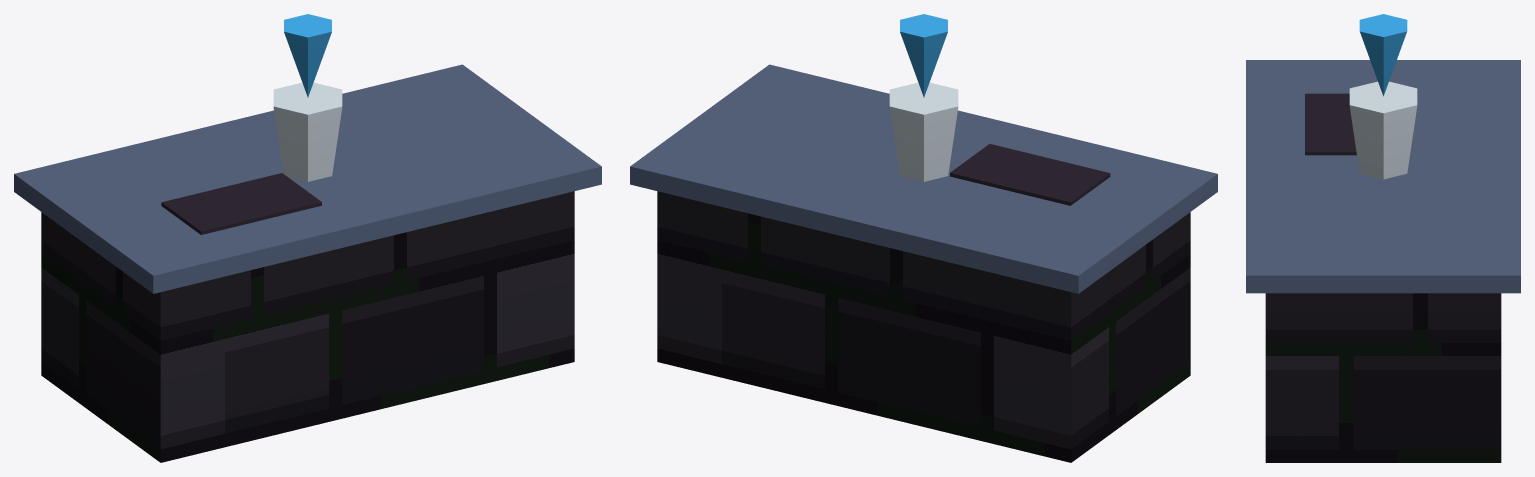
File: ledger_lectern.glb
3 renders of one model, left to right at view 1: azimuth 30°, elevation 25°; view 2: azimuth 150°, elevation 25°; view 3: azimuth 270°, elevation 25°, orthographic.
Visible parts, largest first — view 1: ledger_lectern; view 2: ledger_lectern; view 3: ledger_lectern.
Boxes of the visible parts, box(x1,y1,x2,y2) form: ledger_lectern: box(14, 14, 601, 462); ledger_lectern: box(630, 14, 1217, 462); ledger_lectern: box(1246, 14, 1520, 462).
Size of the model in its own units: 2.6 by 1.9 by 1.4.
3 materials, 1 textured.
